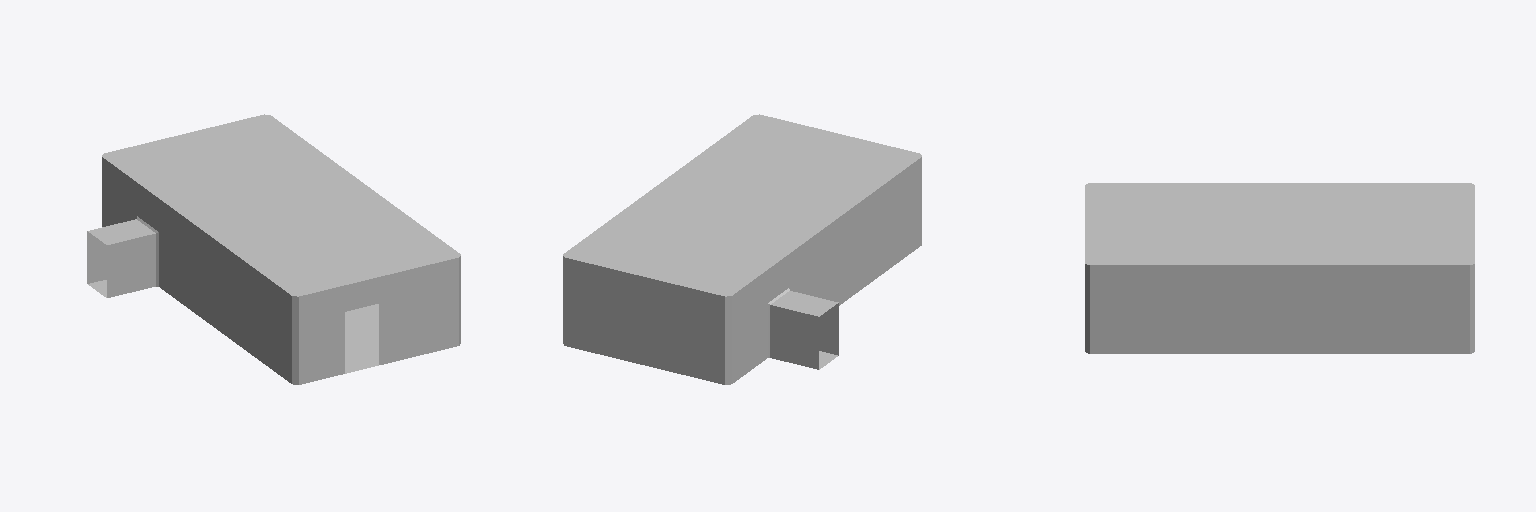
File: room 11.obj
The picture shows the model from 3 angles: view 1: azimuth 30°, elevation 25°; view 2: azimuth 150°, elevation 25°; view 3: azimuth 270°, elevation 25°; orthographic projection.
Parts seen in each view (by area): view 1: result.004_Cube.003; view 2: result.004_Cube.003; view 3: result.004_Cube.003.
Boxes of the visible parts, box(x1,y1,x2,y2) form: result.004_Cube.003: box(87, 114, 460, 384); result.004_Cube.003: box(563, 114, 921, 384); result.004_Cube.003: box(1085, 183, 1474, 353).
Size of the model in its own units: 13 by 5 by 20.